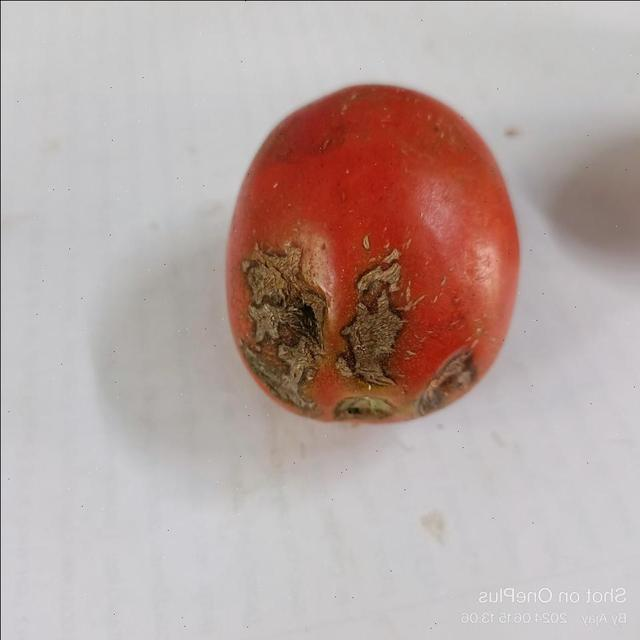Bacterial Spot Fruit: (38, 46, 301, 253)
